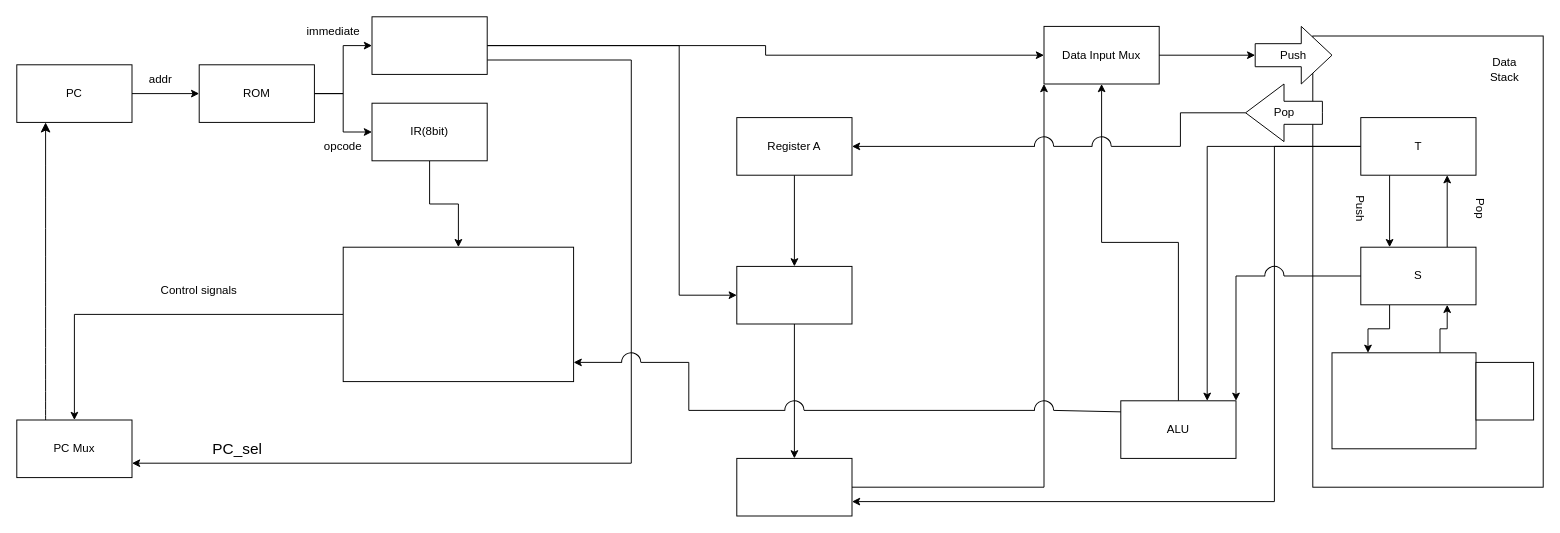
The diagram is 1560 pixels wide and 533 high, and some of its shapes have lost their labels. The centre of each missing label's shape, as x and y in pixels:
Addr Mux: the point at 794,294
Control Unit: the point at 458,314
Data Memory: the point at 794,486
IMM(32bit): the point at 429,45
SP: the point at 1504,390
Stack RAM: the point at 1403,400
